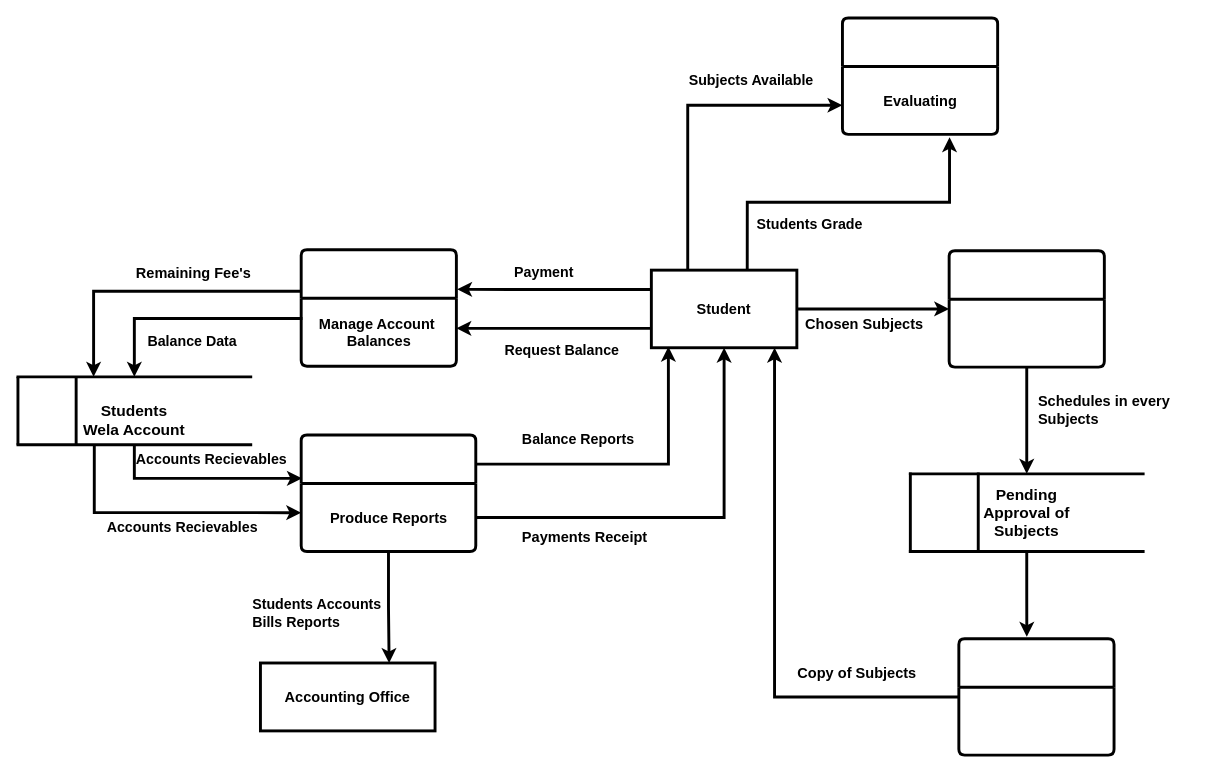
This 1209x773 diagram has some shape labels left out. The shapes that lost their labels are listed below. From the top down, each one's centre as x and y in pixels, then its label:
At (x=1026, y=308): "Arranging Schedules".
At (x=1036, y=696): "Printing Copy of Approved Subjects".
